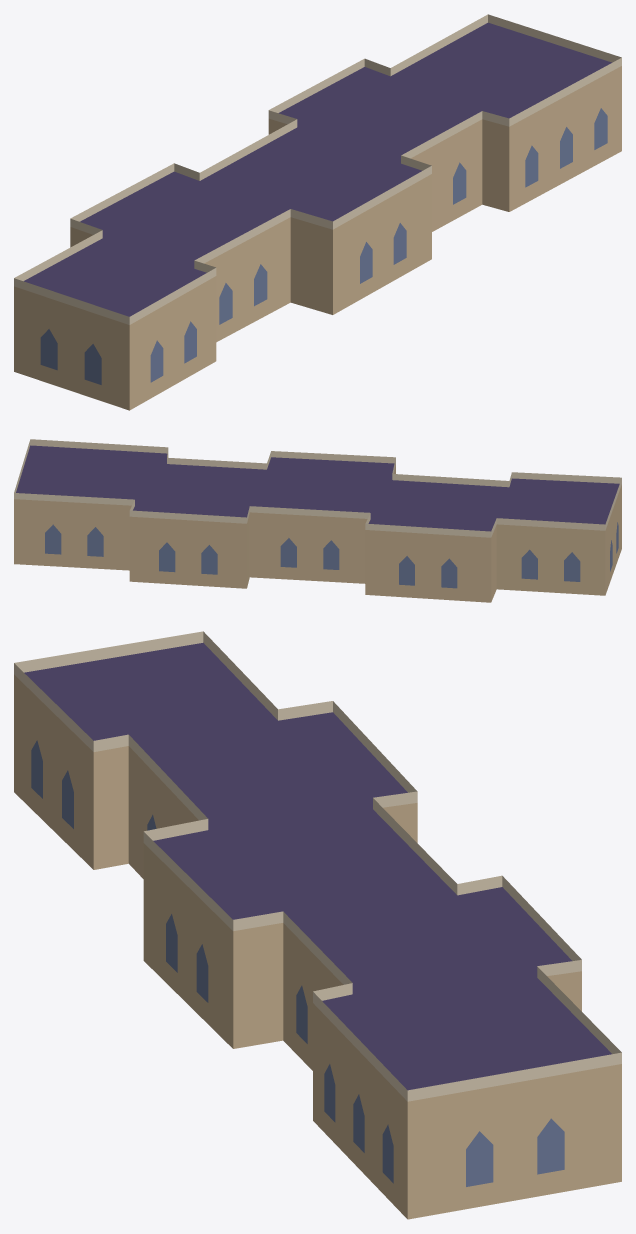
The model's file is b-045-day.glb.
The picture shows the model from 3 angles, top to bottom: view 1: azimuth 30°, elevation 25°; view 2: azimuth 150°, elevation 25°; view 3: azimuth 270°, elevation 25°; orthographic projection. The views are drawn at different scales.
Parts seen in each view (by area): view 1: campus/b-045-day-0; view 2: campus/b-045-day-0; view 3: campus/b-045-day-0.
Boxes of the visible parts, box(x1,y1,x2,y2) form: campus/b-045-day-0: box(14, 14, 621, 410); campus/b-045-day-0: box(14, 439, 621, 602); campus/b-045-day-0: box(14, 631, 621, 1219).
Size of the model in its own units: 47.61 by 6.25 by 26.65.
